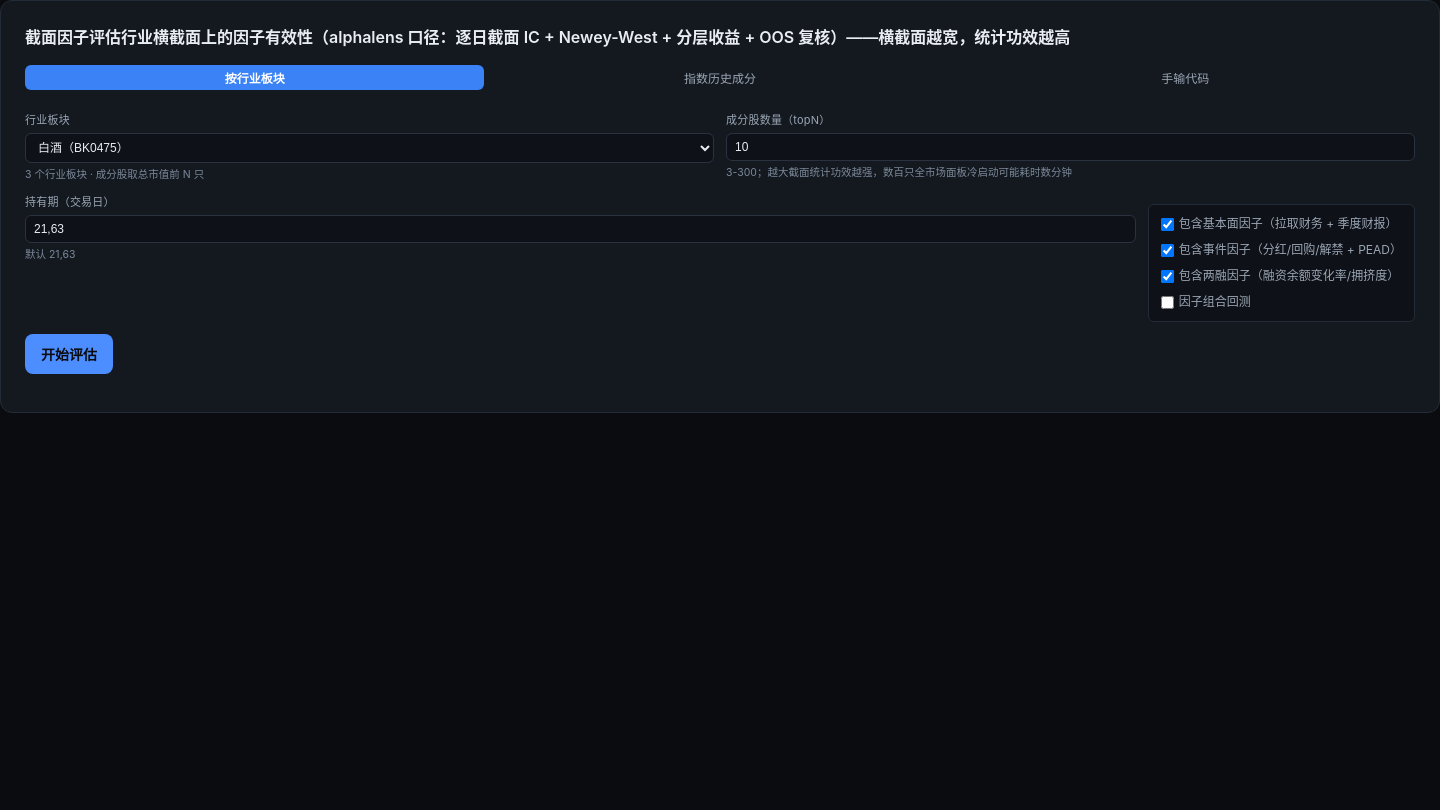
Test: CrossSectionPanel —— 提交、加载态与取消 › 评估失败展示中文错误横幅，按钮回到「开始评估」并可重试成功
Click the button "开始评估". click: [69, 354]
box: [25,334,113,374]
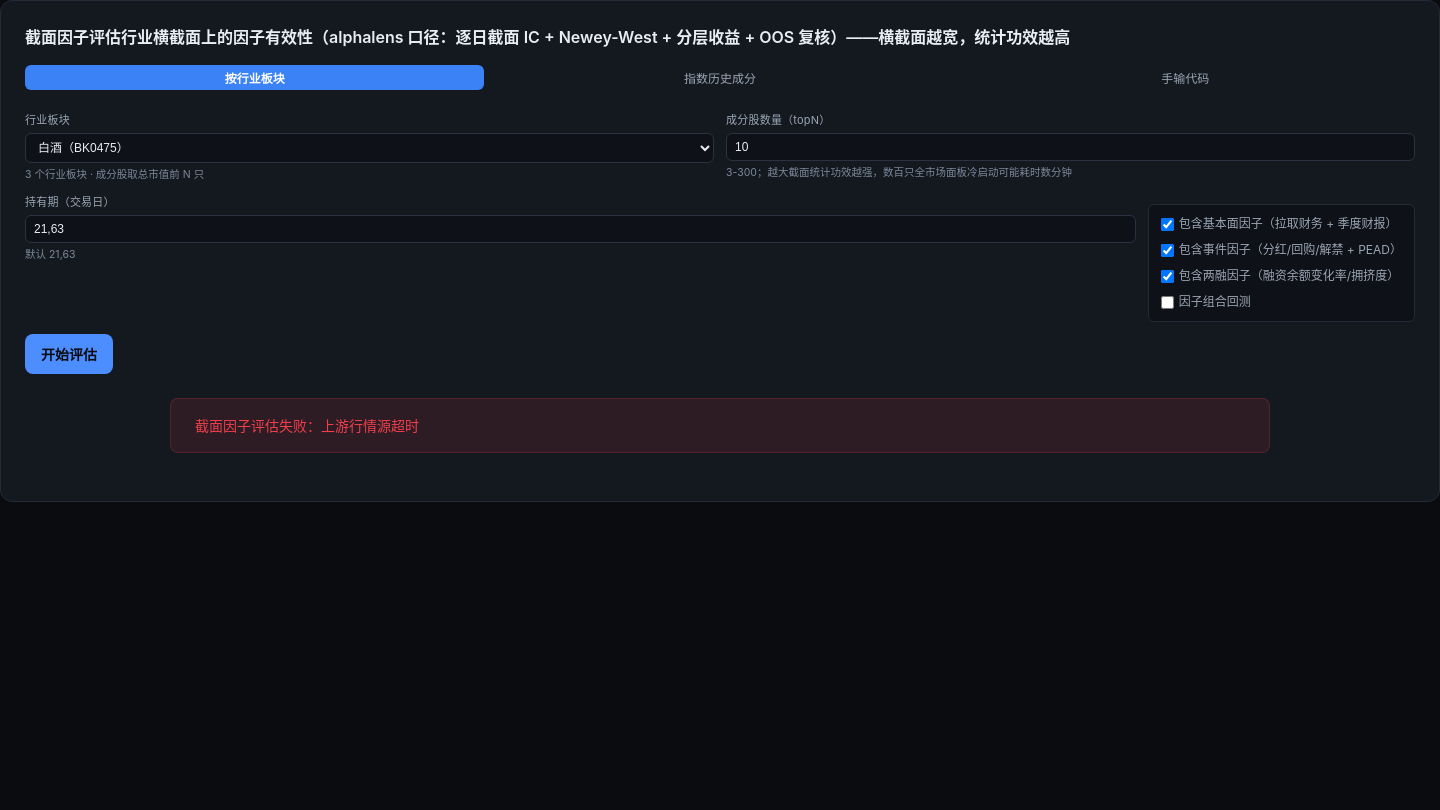
Click the button "开始评估". click: [69, 354]
box: [25,334,113,374]
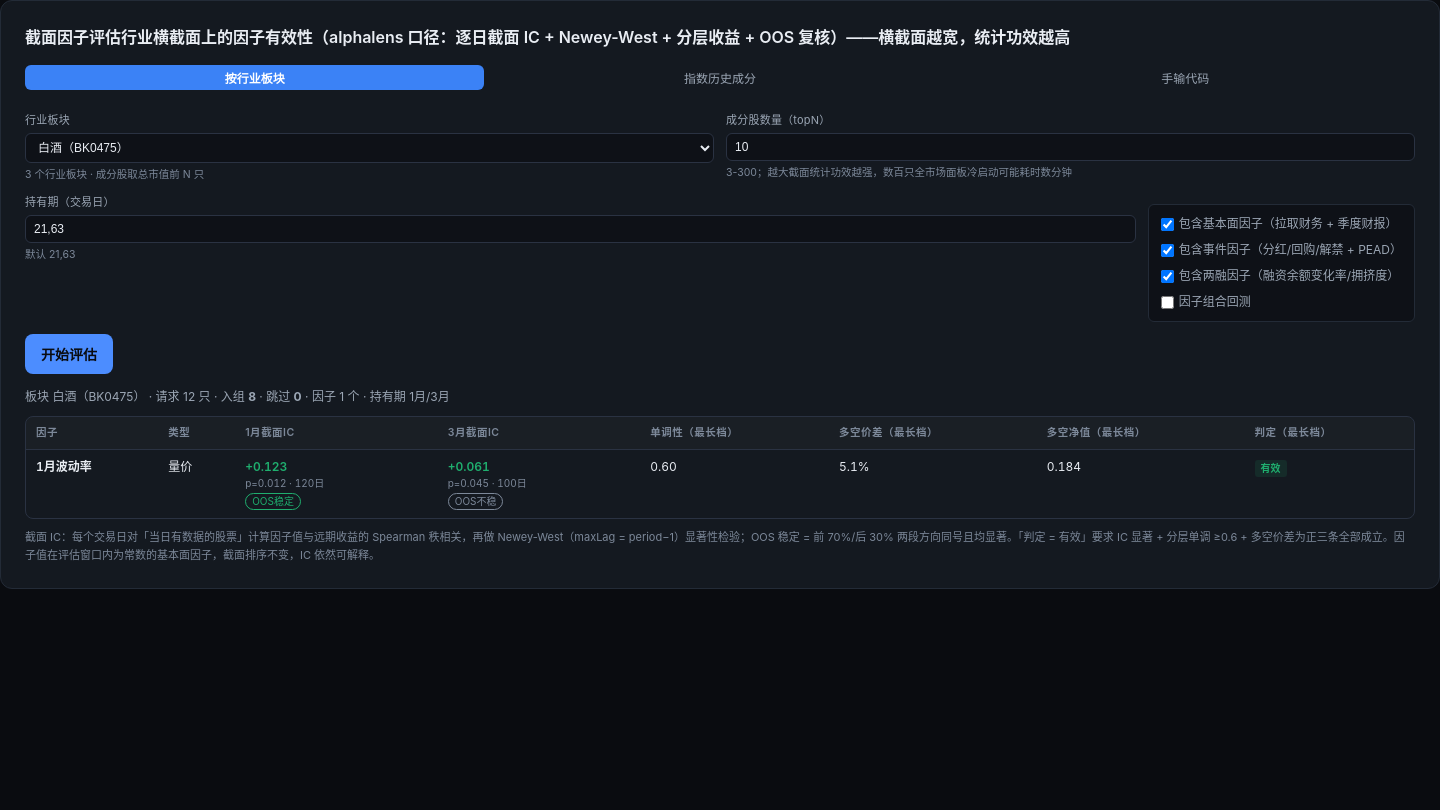
Check: the column heading "1月截面IC" is shown, box [235,417,438,450]
Check: the text with class "error-banner" is gone
